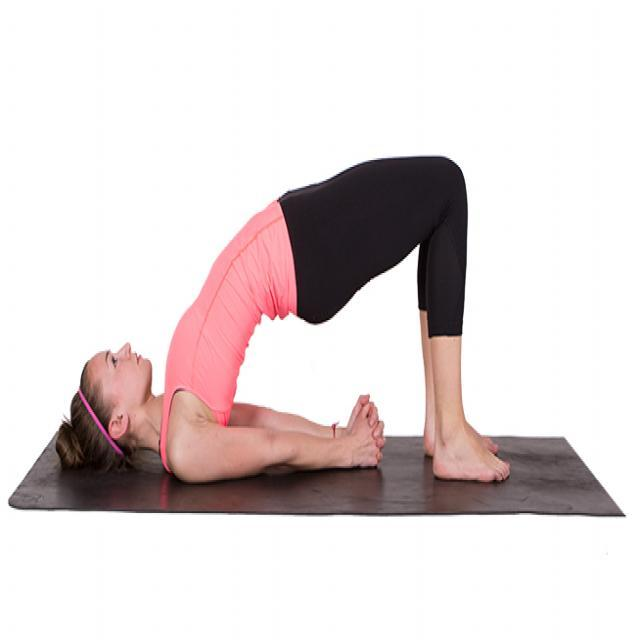yoga-pose bridge: (69, 154, 512, 491)
